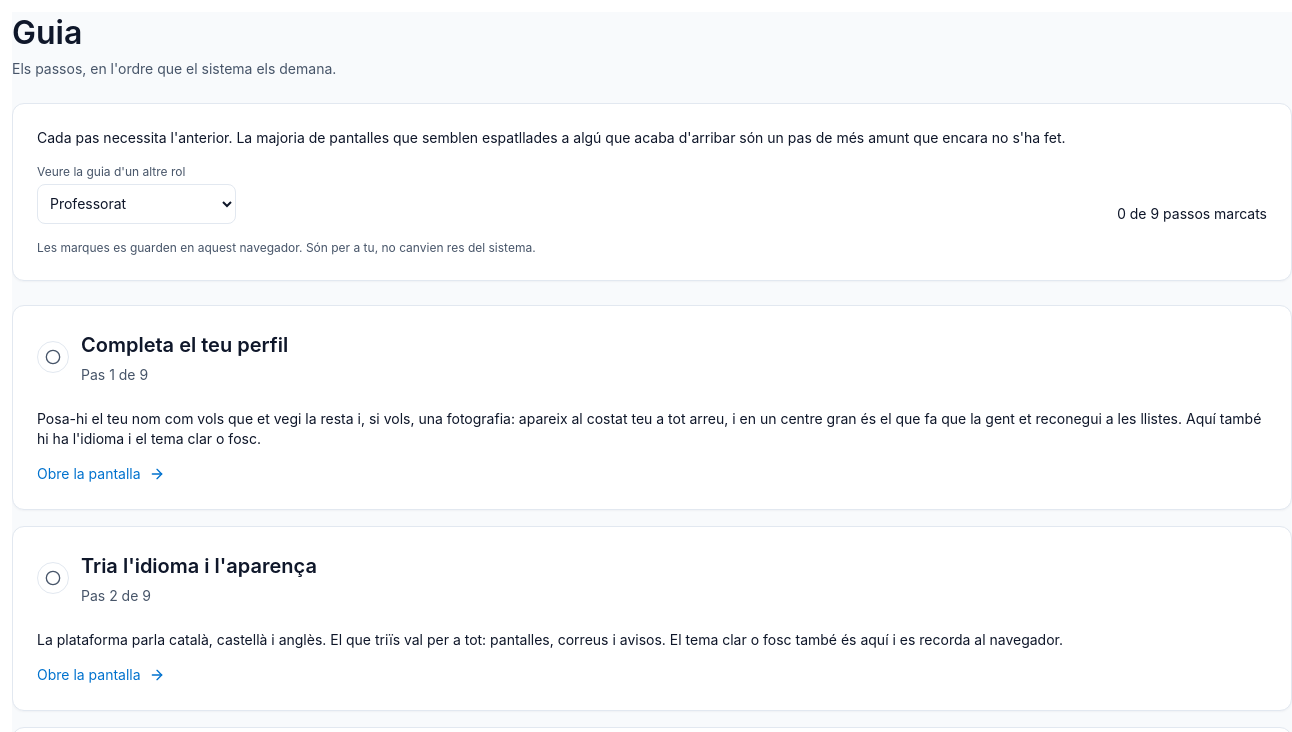
Scenario: the getting-started guide › keeps the ticks in the browser, since they are a reading aid
Expected: the text "0 de 9 passos marcats" is shown, x1=1117 y1=204 x2=1267 y2=224
Click the button named "Marca com a fet" next to "Completa el teu perfil": (53, 357) x1=37 y1=341 x2=69 y2=373
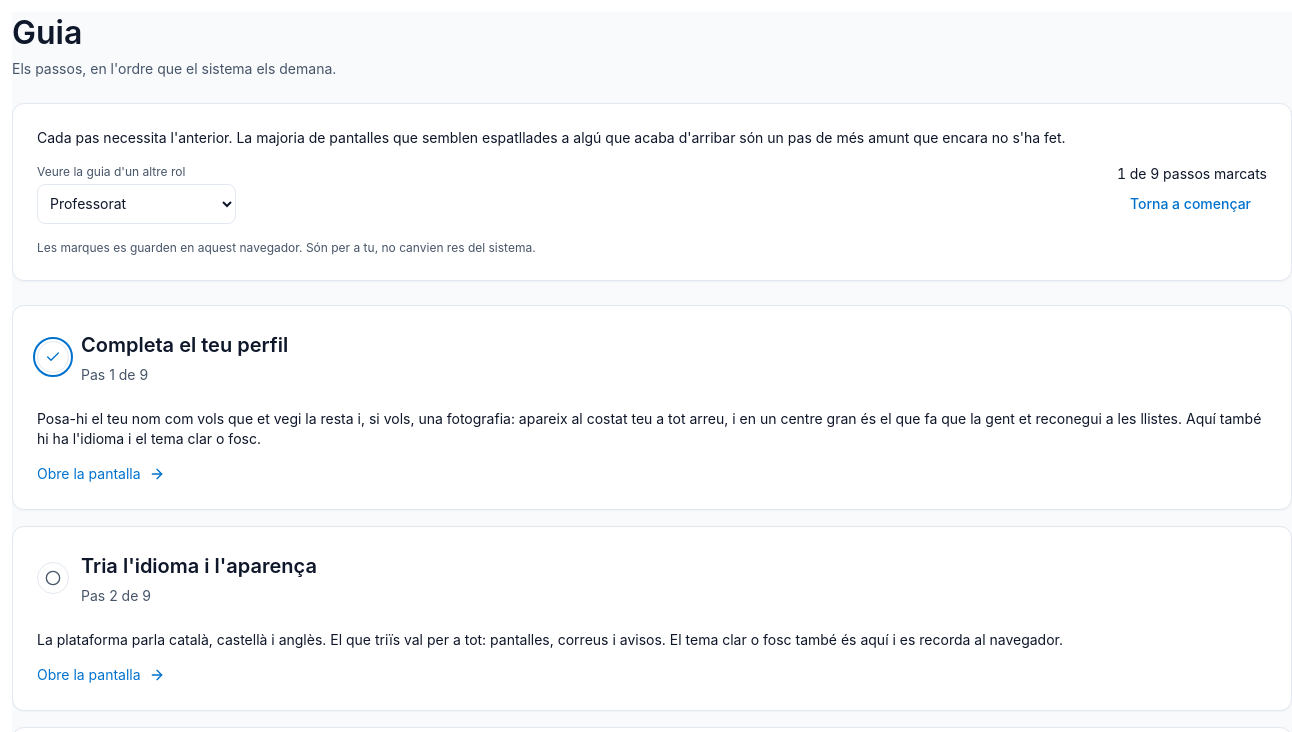
Expected: the text "1 de 9 passos marcats" is shown, x1=1114 y1=164 x2=1267 y2=184
